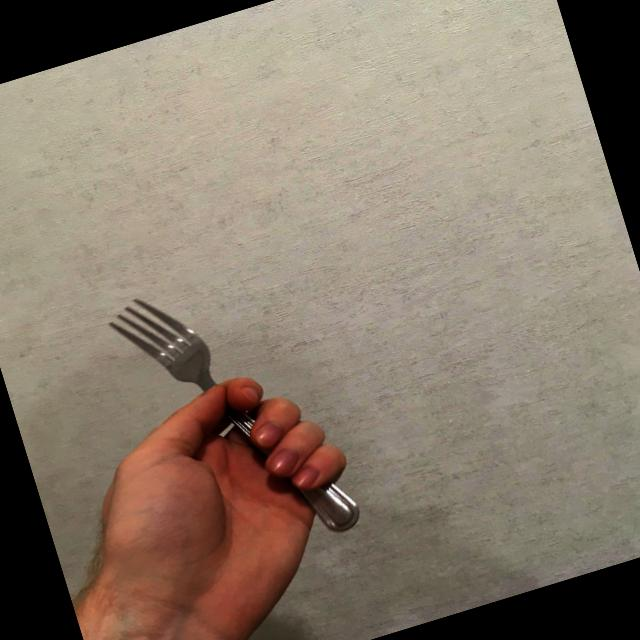fork: (104, 253, 365, 579)
